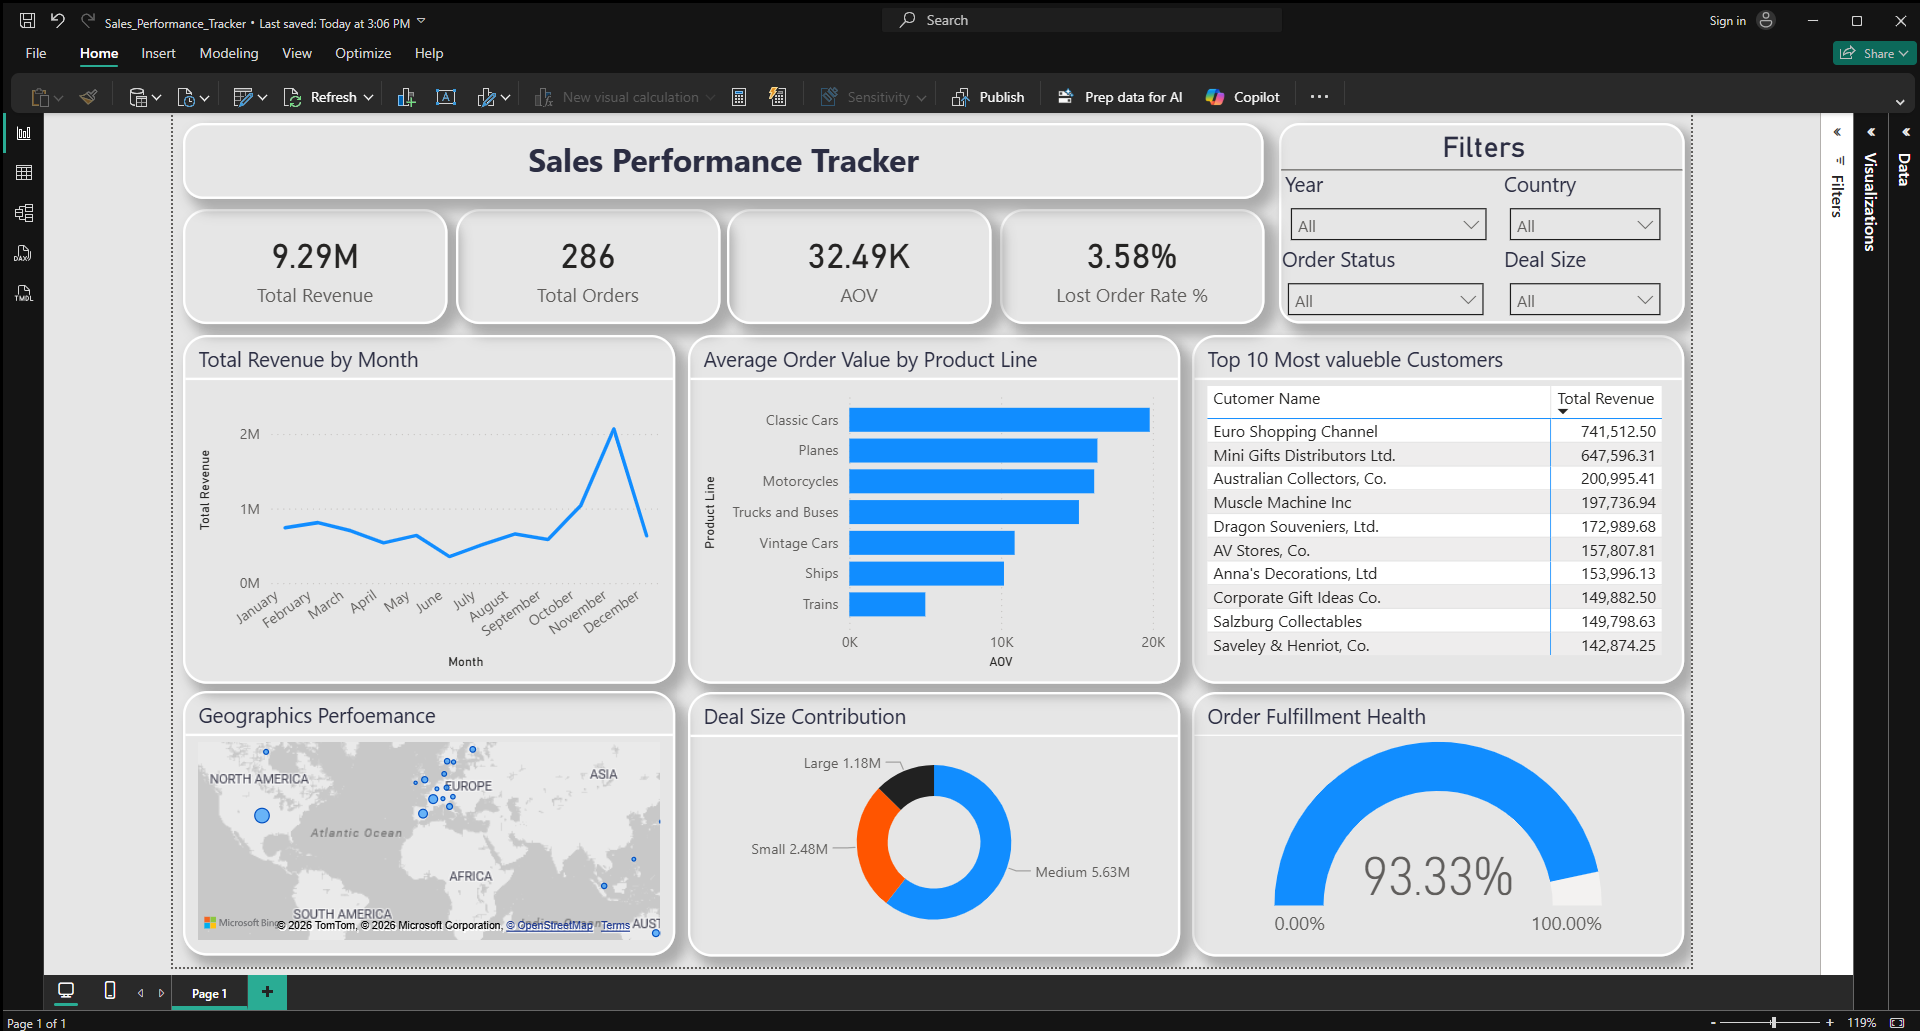

Layout of this report page (visuals, bound fields, positions):
{"tool":"powerbi","page":{"name":"Page 1","canvas":[1280,720],"ordinal":0},"visuals":[{"type":"card","fields":{"Values":["SalesData.Total Revenue"]},"box":[8.6,81.1,222.5,96.6],"z":0},{"type":"card","fields":{"Values":["SalesData.Total Orders"]},"box":[238.9,81.1,222.5,96.6],"z":1000},{"type":"card","fields":{"Values":["SalesData.Lost Order Rate %"]},"box":[696.9,81.1,222.5,96.6],"z":2000},{"type":"card","fields":{"Values":["SalesData.AOV"]},"box":[467.5,81.1,222.5,96.6],"z":3000},{"type":"lineChart","fields":{"Category":["SalesData.ORDERDATE.Variation.Date Hierarchy.Month","SalesData.ORDERDATE.Variation.Date Hierarchy.Day"],"Y":["SalesData.Total Revenue"]},"box":[8.6,187.2,415,294.1],"z":4000},{"type":"map","title":"Geographics Perfoemance","fields":{"Category":["SalesData.COUNTRY"],"Size":["SalesData.Total Revenue"]},"box":[8.6,487.3,414.9,223.4],"z":5000},{"type":"pivotTable","title":"Top 10 Most valueble Customers","fields":{"Rows":["SalesData.CUSTOMERNAME"],"Values":["SalesData.Total Revenue"]},"box":[859.1,187.2,414.9,294.1],"z":6000},{"type":"gauge","title":"Order Fulfillment Health","fields":{"Y":["SalesData.Successful Ship Rate %"]},"box":[859.1,488.2,415,223],"z":7000},{"type":"textbox","title":"Filters","box":[932.4,8.6,341.6,169.1],"z":7500},{"type":"slicer","title":"Year","fields":{"Values":["SalesData.YEAR_ID"]},"box":[932.5,47.2,184.6,63.2],"z":8000},{"type":"slicer","title":"Order Status","fields":{"Values":["SalesData.STATUS"]},"box":[929.9,110.4,184.6,63.2],"z":9000},{"type":"slicer","title":"Country","fields":{"Values":["SalesData.COUNTRY"]},"box":[1117.1,47.2,146.7,63.2],"z":10000},{"type":"slicer","title":"Deal Size","fields":{"Values":["SalesData.DEALSIZE"]},"box":[1117.1,110.4,146.7,63.2],"z":11000},{"type":"textbox","title":"aaa","box":[8.4,8.4,911.4,64.1],"z":12000},{"type":"clusteredBarChart","title":"Average Order Value by Product Line","fields":{"Y":["SalesData.AOV"],"Category":["SalesData.PRODUCTLINE"]},"box":[433.9,187.2,414.9,294.1],"z":14000},{"type":"donutChart","title":"Deal Size Contribution","fields":{"Y":["SalesData.Total Revenue"],"Category":["SalesData.DEALSIZE"]},"box":[433.9,488.2,414.9,223.4],"z":15000}]}

Visuals, with their boxes on the page's 1280x720 design canvas (x1, y1, x2, y2). These are canvas units, not pixel positions in the 1920x1031 screenshot, which may show the page scaled, cropped or inside an application window:
card - SalesData.Total Revenue: [x1=9, y1=81, x2=231, y2=178]
card - SalesData.Total Orders: [x1=239, y1=81, x2=461, y2=178]
card - SalesData.Lost Order Rate %: [x1=697, y1=81, x2=919, y2=178]
card - SalesData.AOV: [x1=468, y1=81, x2=690, y2=178]
lineChart - SalesData.ORDERDATE.Variation.Date Hierarchy.Month x SalesData.ORDERDATE.Variation.Date Hierarchy.Day: [x1=9, y1=187, x2=424, y2=481]
"Geographics Perfoemance" map: [x1=9, y1=487, x2=424, y2=711]
"Top 10 Most valueble Customers" pivotTable: [x1=859, y1=187, x2=1274, y2=481]
"Order Fulfillment Health" gauge: [x1=859, y1=488, x2=1274, y2=711]
"Filters" textbox: [x1=932, y1=9, x2=1274, y2=178]
"Year" slicer: [x1=932, y1=47, x2=1117, y2=110]
"Order Status" slicer: [x1=930, y1=110, x2=1114, y2=174]
"Country" slicer: [x1=1117, y1=47, x2=1264, y2=110]
"Deal Size" slicer: [x1=1117, y1=110, x2=1264, y2=174]
"aaa" textbox: [x1=8, y1=8, x2=920, y2=72]
"Average Order Value by Product Line" clusteredBarChart: [x1=434, y1=187, x2=849, y2=481]
"Deal Size Contribution" donutChart: [x1=434, y1=488, x2=849, y2=712]
